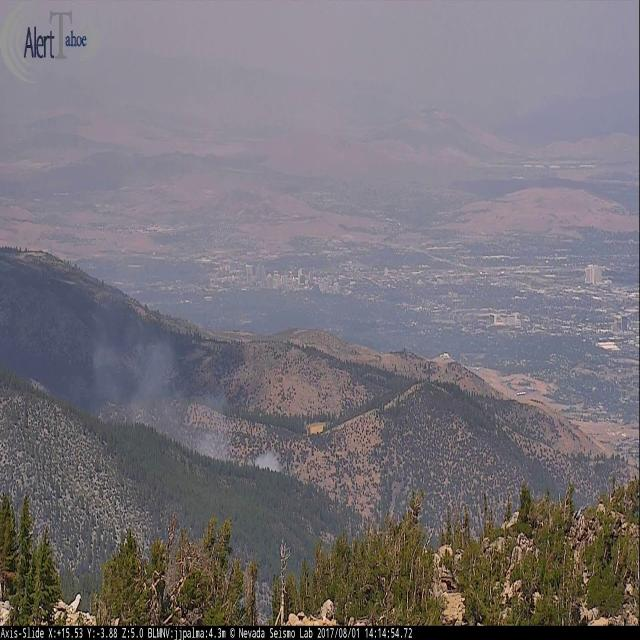smoke: (67, 214, 282, 477)
